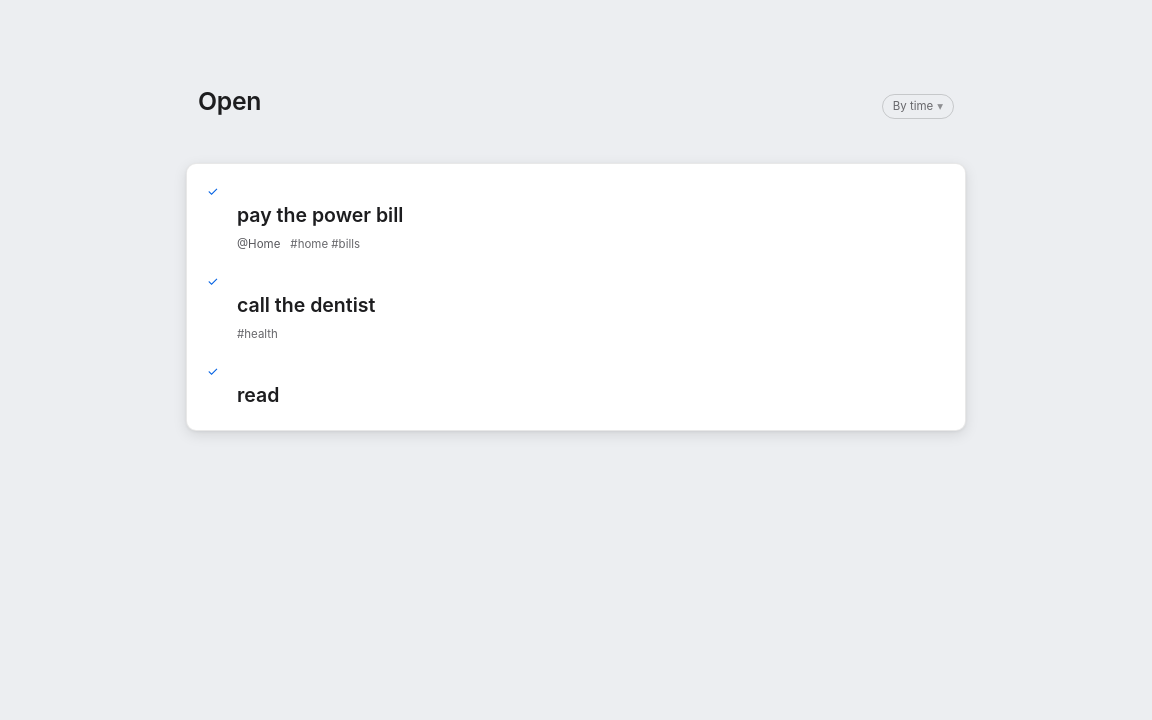
it: grouping the open tasks › puts a task under every one of its tags, and the untagged ones last
Click the button with aria-label "Grouped by". click: (918, 106)
box: [882,94,954,119]
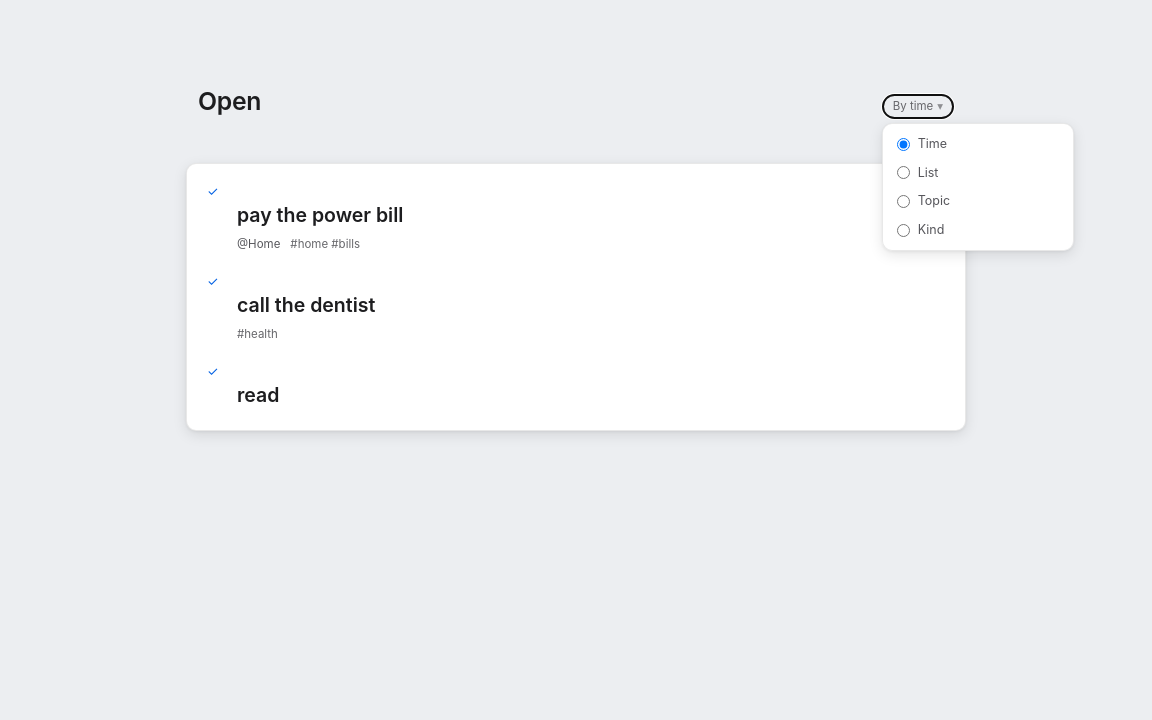
Click the radio button labelled "Topic". click: (903, 202)
box: [897,195,910,208]
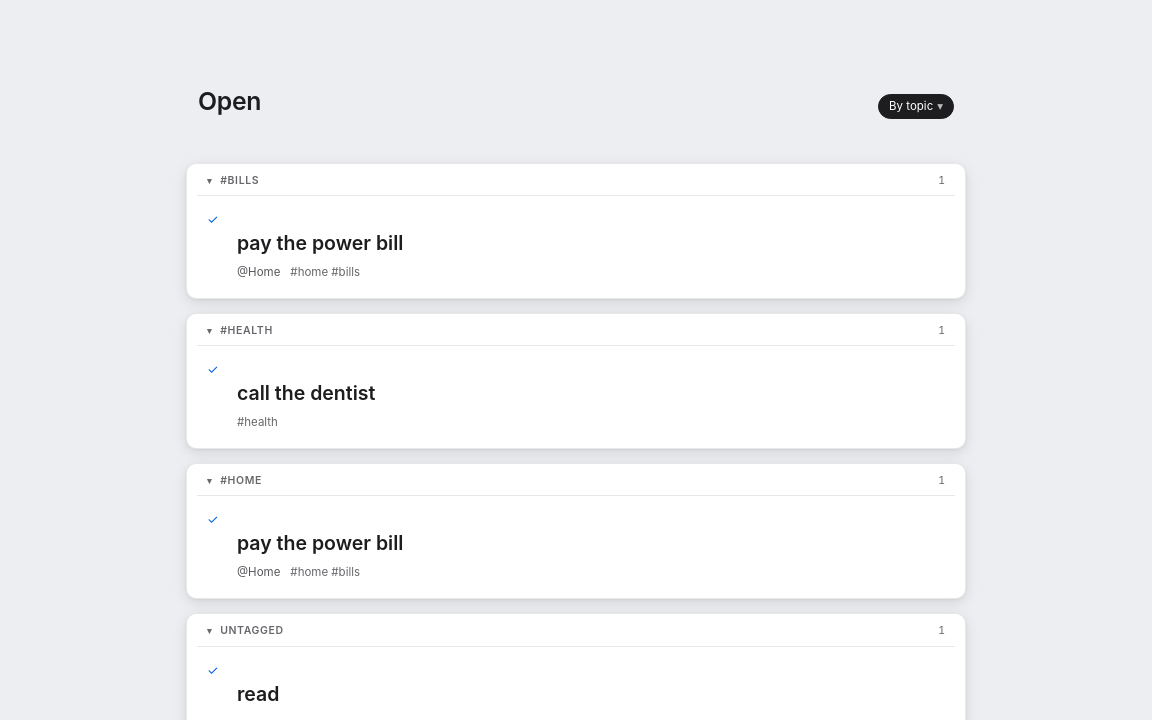
Result: the number of headings "pay the power bill" is 2 at [237,231,403,255]; [237,531,403,555]
